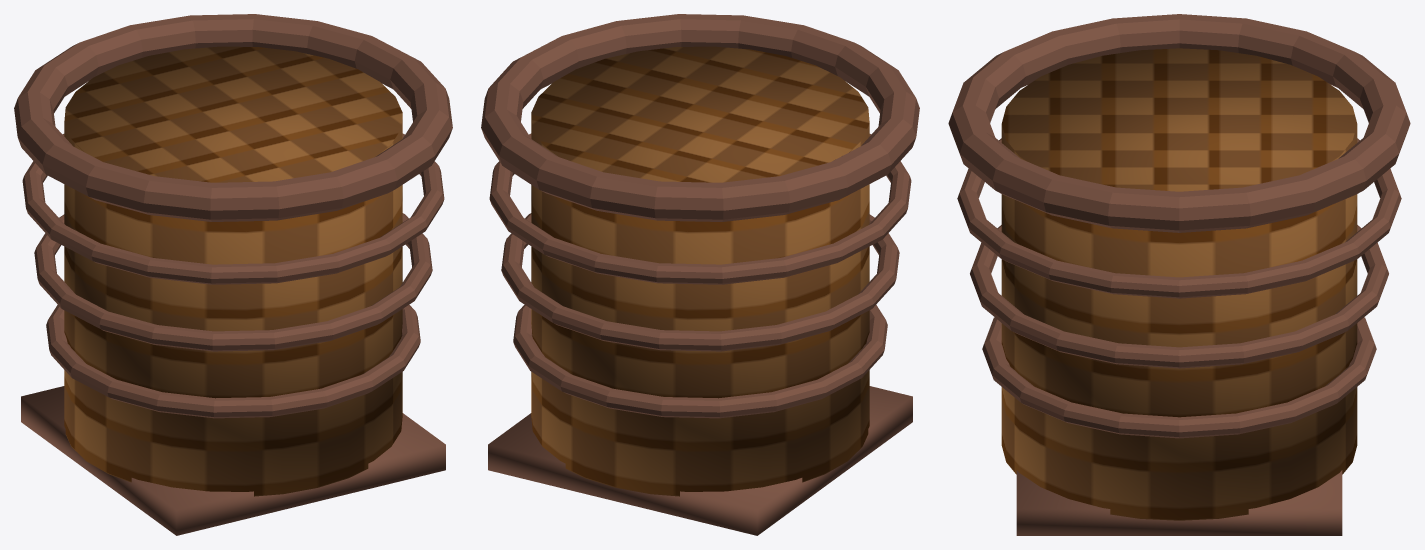
File: woven-basket.glb
3 views of the same model, side by side, from view 1: azimuth 30°, elevation 25°; view 2: azimuth 150°, elevation 25°; view 3: azimuth 270°, elevation 25° (orthographic). The views are drawn at different scales.
Visible parts, largest first — view 1: wall, merged_wood_dark; view 2: wall, merged_wood_dark; view 3: wall, merged_wood_dark.
Part boxes in pixels (x1,y1,x2,y2): wall: [64, 46, 402, 496]; merged_wood_dark: [14, 14, 452, 535]; wall: [531, 46, 869, 496]; merged_wood_dark: [481, 14, 919, 535]; wall: [1001, 48, 1357, 520]; merged_wood_dark: [948, 14, 1410, 535].
Bounding box in the file's own units: 0.78 × 0.6733 × 0.78.
3 materials, 1 textured.
